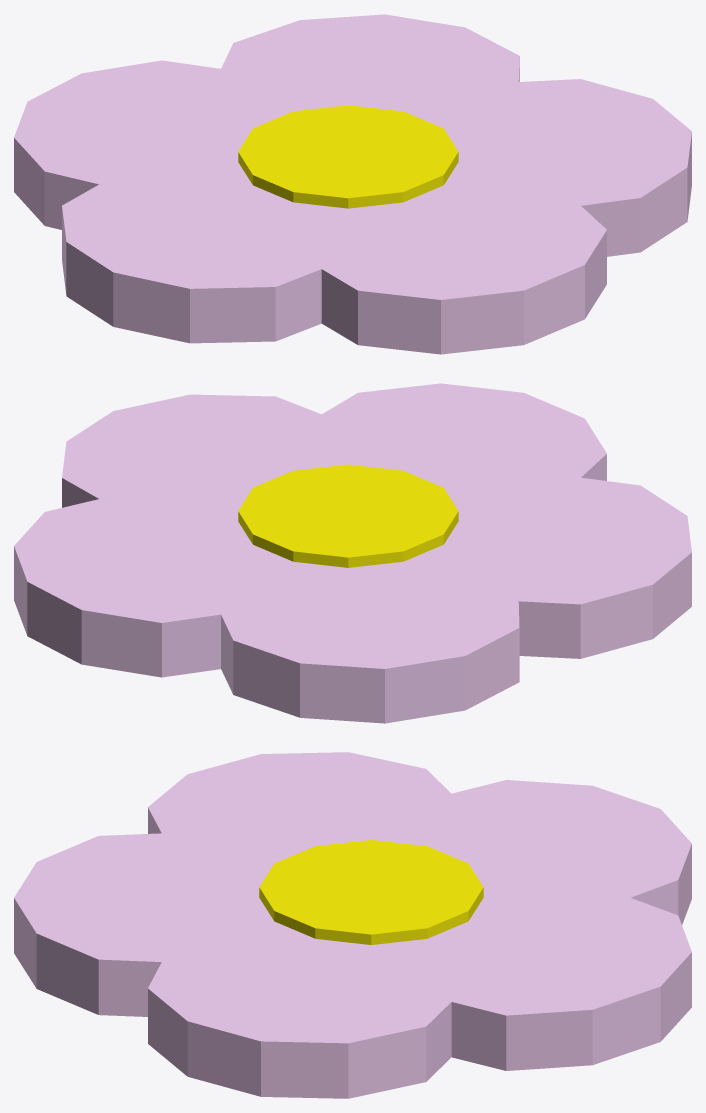
The model's file is teleport_pad_model.fbx.
The picture shows the model from 3 angles, top to bottom: view 1: azimuth 30°, elevation 25°; view 2: azimuth 150°, elevation 25°; view 3: azimuth 270°, elevation 25°; orthographic projection.
Visible parts, largest first — view 1: teleport_pad; view 2: teleport_pad; view 3: teleport_pad.
Part boxes in pixels (bbox=[...]): teleport_pad: bbox=[14, 14, 691, 354]; teleport_pad: bbox=[14, 383, 691, 723]; teleport_pad: bbox=[14, 752, 691, 1098].
Bounding box in the file's own units: 0.4257 × 0.045 × 0.4189.
